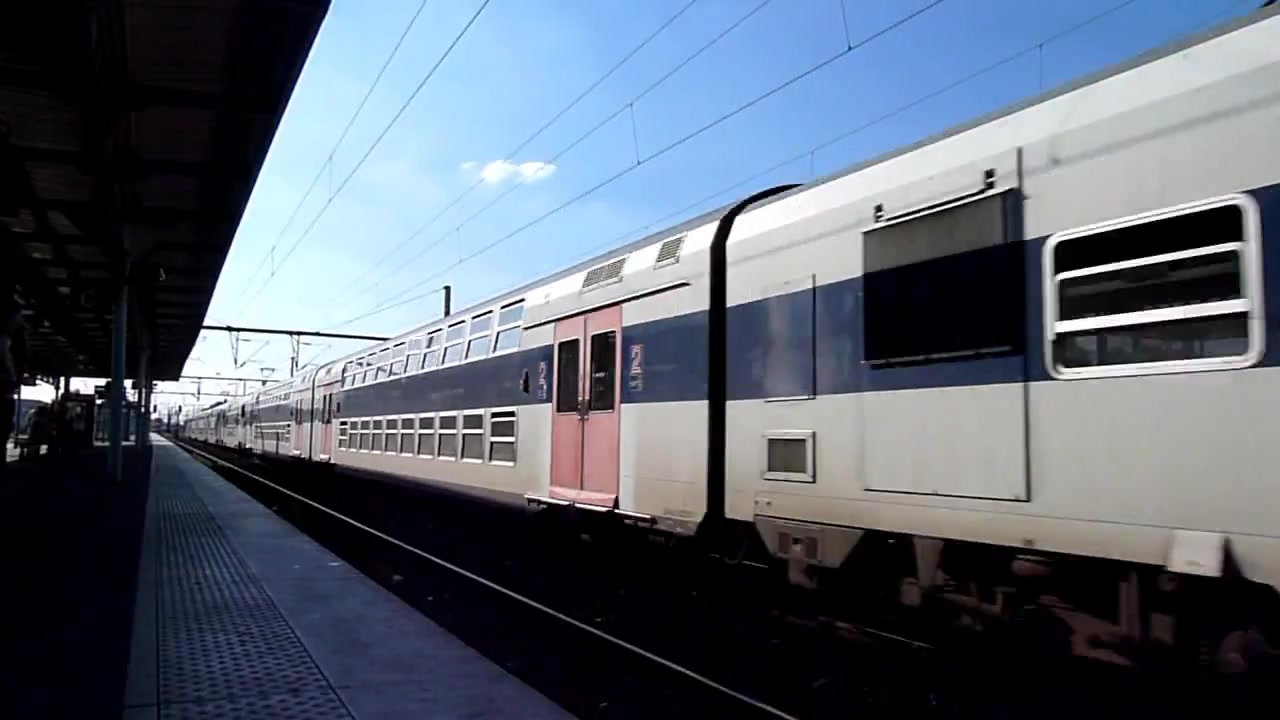train: (180, 1, 1280, 693)
